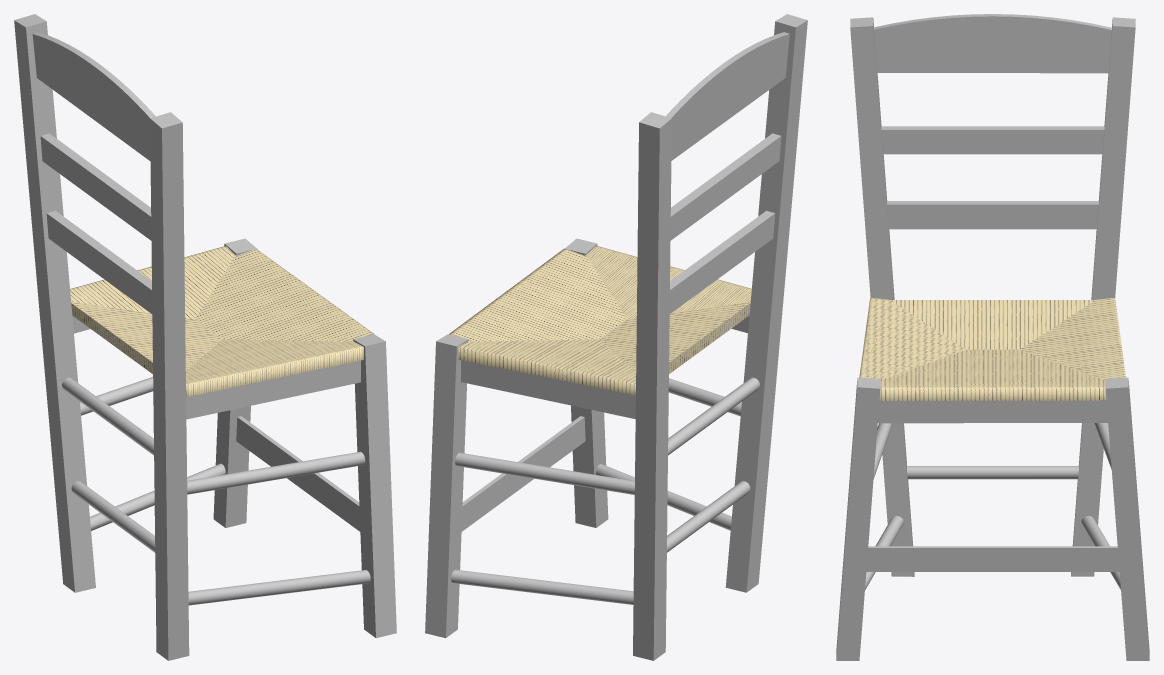
File: grieks.dae
3 views of the same model, side by side, from view 1: azimuth 30°, elevation 25°; view 2: azimuth 150°, elevation 25°; view 3: azimuth 270°, elevation 25° (orthographic). The views are drawn at different scales.
Parts seen in each view (by area): view 1: SketchUp (×15), group_0; view 2: SketchUp (×15), group_0; view 3: SketchUp (×13), group_0.
Part boxes in pixels (x1=…): SketchUp (×15): x1=14, y1=14, x2=396, y2=660; group_0: x1=32, y1=32, x2=155, y2=161; SketchUp (×15): x1=425, y1=14, x2=807, y2=660; group_0: x1=666, y1=32, x2=789, y2=160; SketchUp (×13): x1=836, y1=17, x2=1149, y2=660; group_0: x1=874, y1=14, x2=1111, y2=73.
Size of the model in its own units: 15.12 by 18.65 by 35.63.
